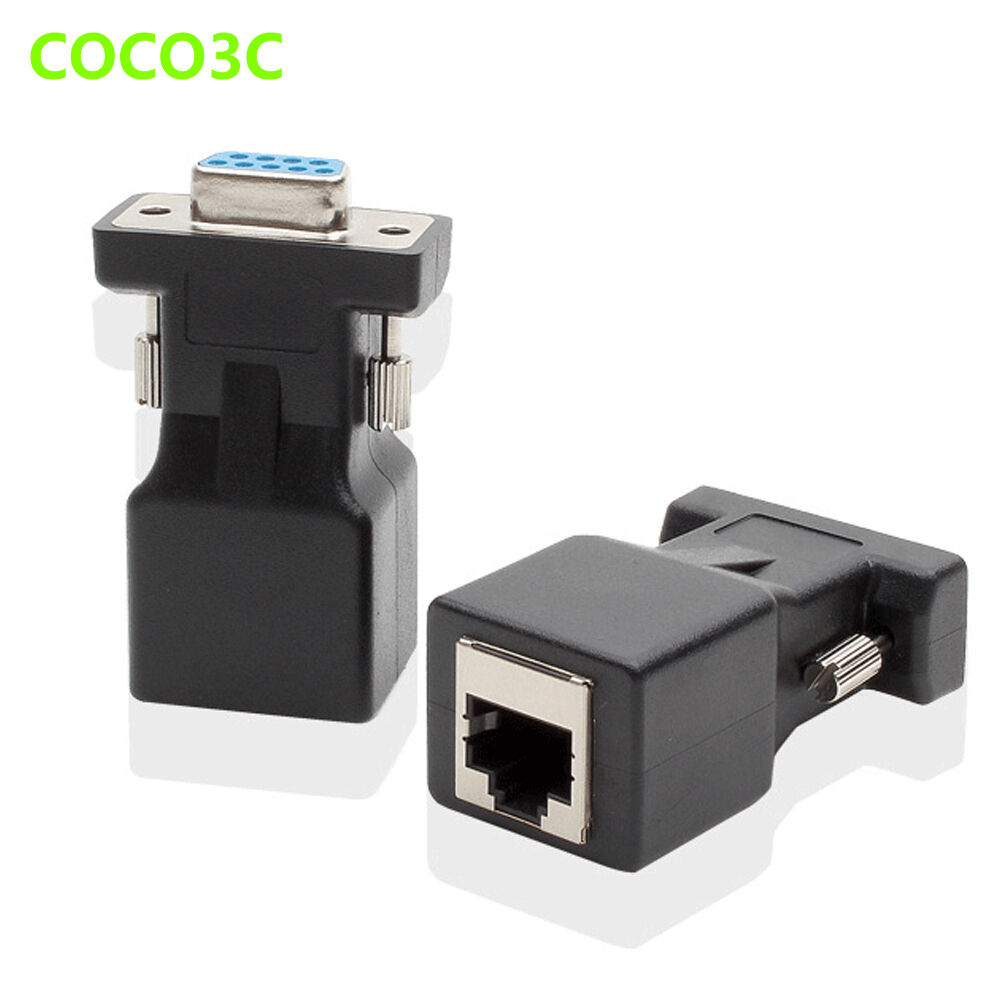lan: (455, 674, 589, 851)
